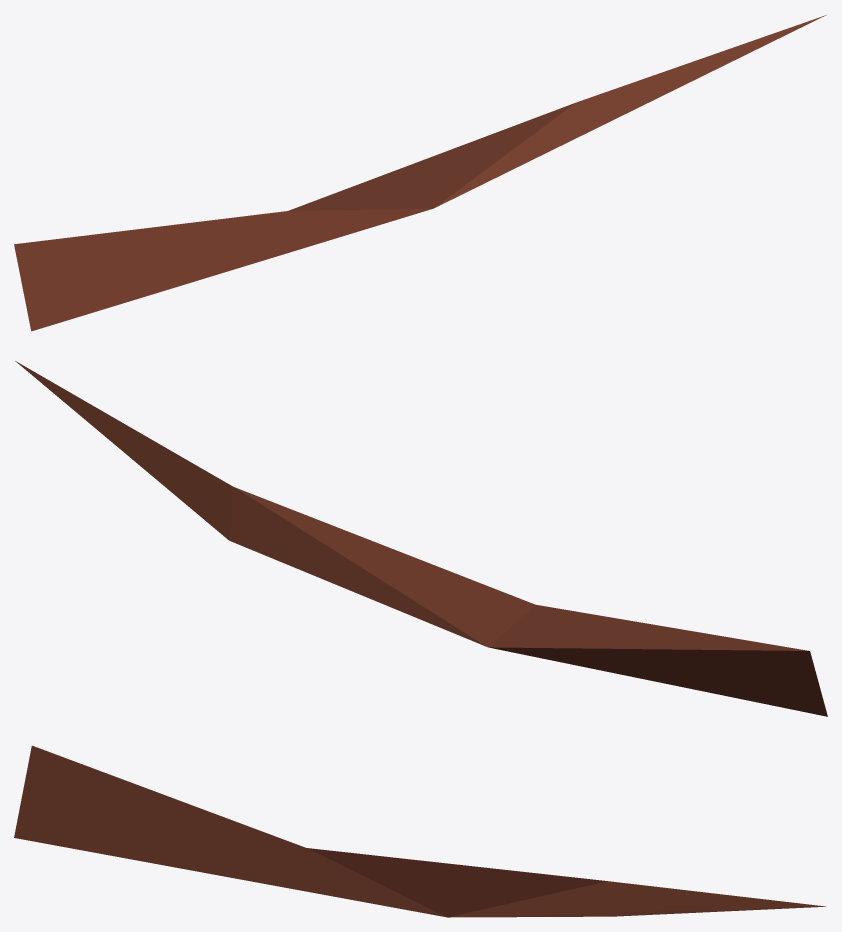
The model's file is pine_branch_type_2_LOD1.fbx.
3 views of the same model, one above another, from view 1: azimuth 30°, elevation 25°; view 2: azimuth 150°, elevation 25°; view 3: azimuth 330°, elevation 25° (orthographic). The views are drawn at different scales.
Visible parts, largest first — view 1: Circle.030; view 2: Circle.030; view 3: Circle.030.
Part boxes in pixels (left/top/right/bottom): Circle.030: left=14, top=15, right=826, bottom=331; Circle.030: left=15, top=361, right=827, bottom=716; Circle.030: left=14, top=745, right=825, bottom=917.
Size of the model in its own units: 285 by 47.41 by 26.84.
